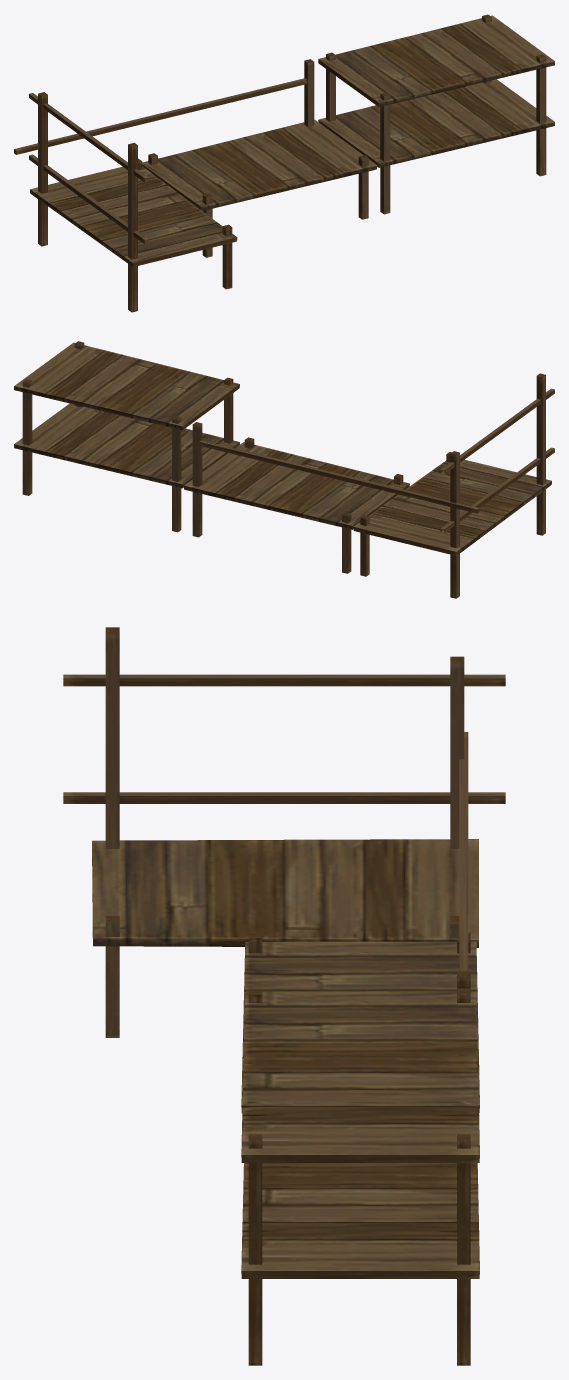
The model's file is JJS_QY_CaiJia.FBX.
3 renders of one model, top to bottom at view 1: azimuth 30°, elevation 25°; view 2: azimuth 150°, elevation 25°; view 3: azimuth 270°, elevation 25°, orthographic. The views are drawn at different scales.
Parts seen in each view (by area): view 1: JJS_QY_CaiJia; view 2: JJS_QY_CaiJia; view 3: JJS_QY_CaiJia.
Part boxes in pixels (<box>): JJS_QY_CaiJia: <box>14,14,554,312</box>; JJS_QY_CaiJia: <box>14,341,554,598</box>; JJS_QY_CaiJia: <box>63,627,505,1365</box>.
Size of the model in its own units: 542 by 178 by 225.
